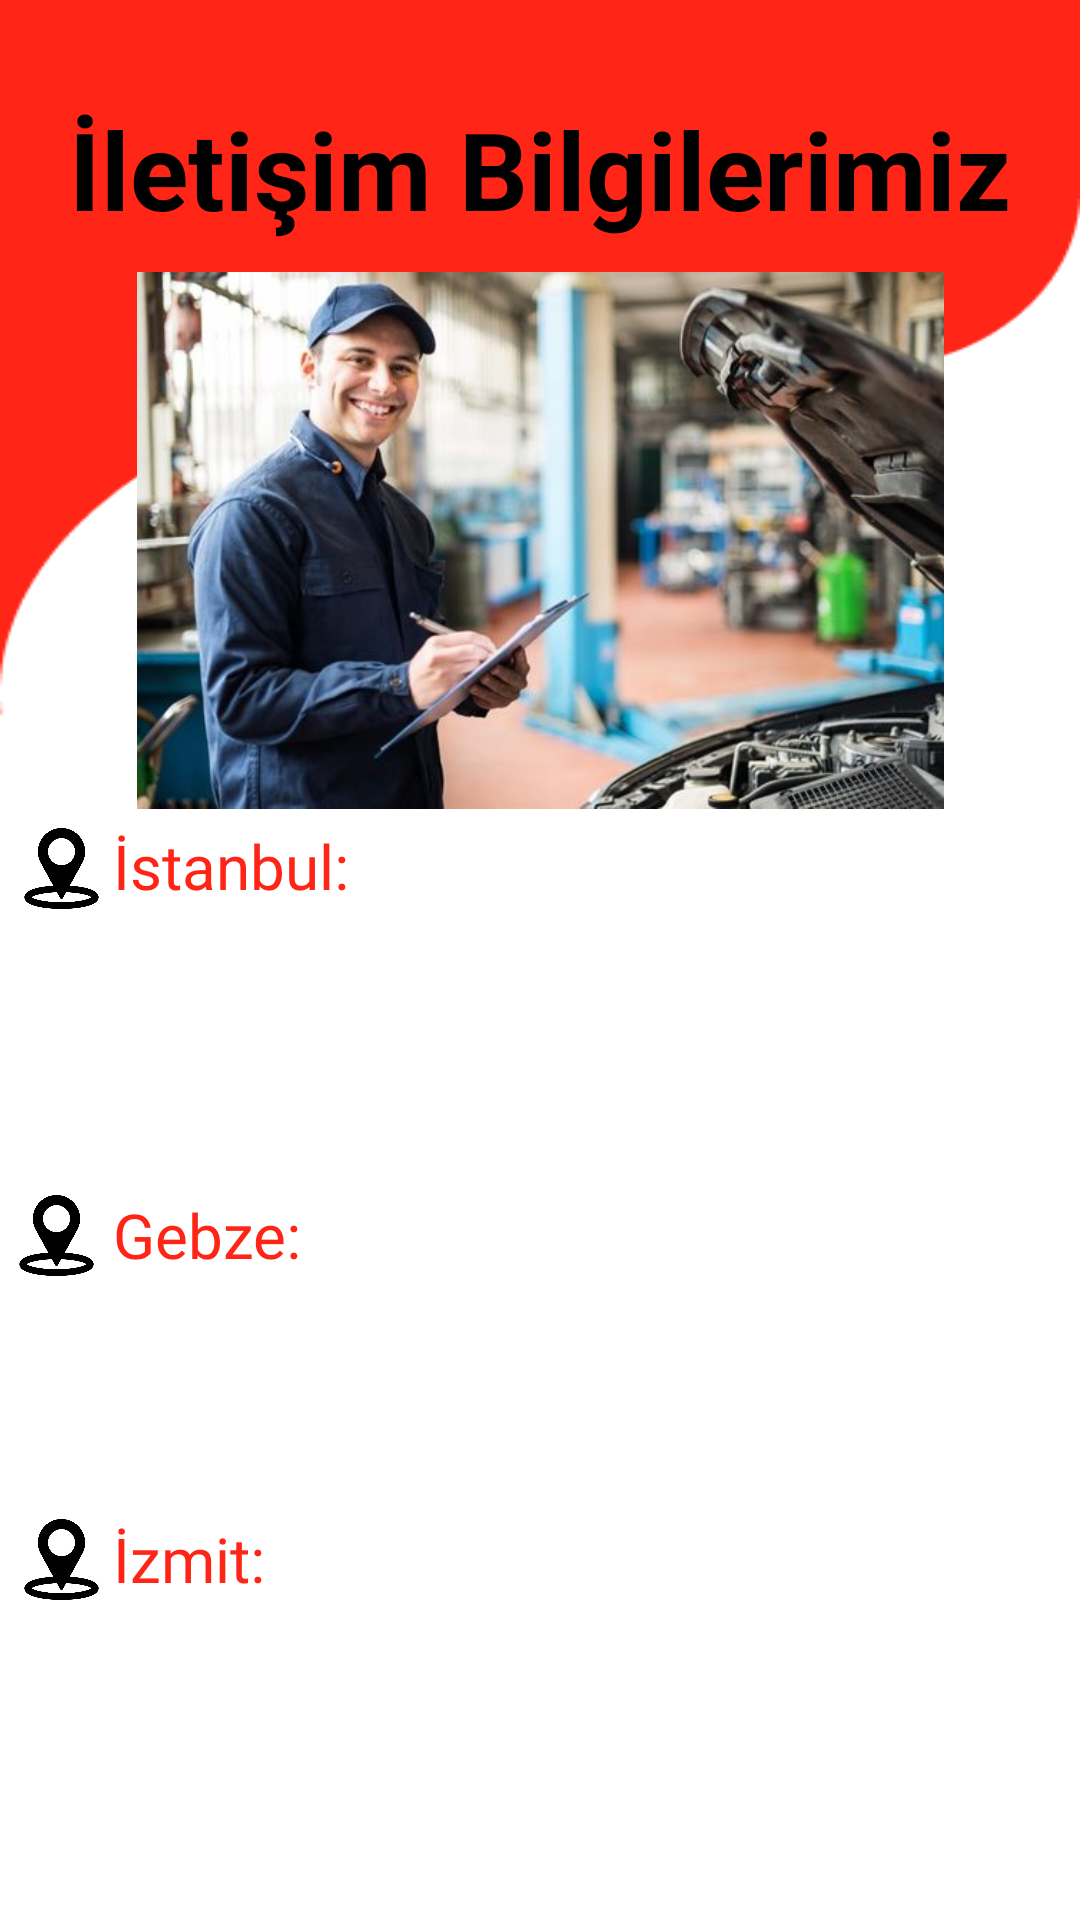

Screen size 1080 x 1920. Icon name, then its box in pixels as (x1, y1, x2, y2):
konum: (24, 828, 99, 909), (19, 1195, 94, 1276), (24, 1519, 99, 1600)
